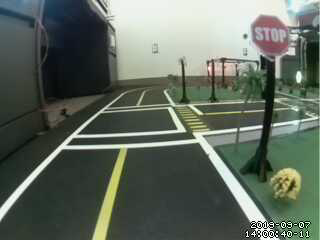Stop_Sign: (245, 8, 302, 62)
